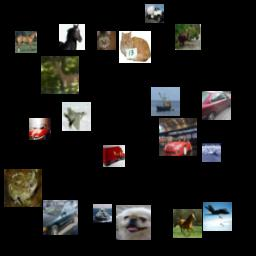airplane: (62, 102, 91, 131), (203, 202, 232, 231), (202, 143, 221, 162)
automobile: (159, 118, 197, 156), (43, 200, 78, 235), (202, 91, 231, 120), (29, 118, 51, 140)
cat: (119, 31, 151, 63), (97, 31, 116, 50)
deer: (41, 56, 79, 94), (175, 24, 201, 50)
dog: (116, 205, 151, 240)
frog: (4, 169, 42, 207)
ship: (151, 87, 180, 116), (93, 204, 112, 223)
truck: (103, 145, 125, 167), (145, 4, 164, 23)
